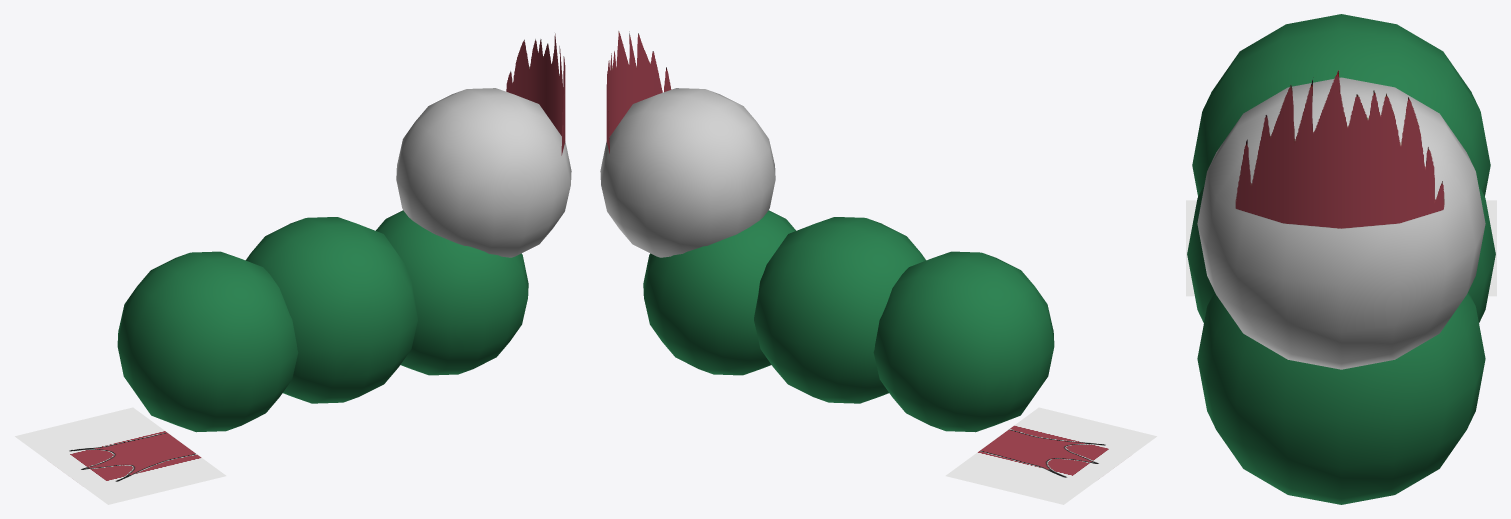
Rendered from Enemy.FBX.
The picture shows the model from 3 angles, left to right: view 1: azimuth 30°, elevation 25°; view 2: azimuth 150°, elevation 25°; view 3: azimuth 270°, elevation 25°; orthographic projection. The views are drawn at different scales.
Parts seen in each view (by area): view 1: Box003, Box004, Box001, Box002, Plane002, Plane001; view 2: Box003, Box004, Box001, Box002, Plane002, Plane001; view 3: Box004, Box002, Plane001, Box003, Box001, Plane002.
Boxes of the visible parts, box(x1,y1,x2,y2) form: Box003: box(117, 251, 298, 432); Box004: box(396, 88, 571, 257); Box001: box(245, 217, 417, 403); Box002: box(376, 210, 528, 375); Plane002: box(15, 407, 226, 504); Plane001: box(506, 33, 565, 155); Box003: box(873, 251, 1054, 432); Box004: box(600, 88, 775, 257); Box001: box(754, 217, 926, 403); Box002: box(643, 210, 795, 375); Plane002: box(945, 407, 1156, 504); Plane001: box(606, 31, 671, 154); Box004: box(1197, 77, 1485, 369); Box002: box(1197, 291, 1485, 504); Plane001: box(1235, 70, 1444, 228); Box003: box(1192, 14, 1490, 196); Box001: box(1187, 183, 1495, 322); Plane002: box(1186, 200, 1496, 296).
Size of the model in its own units: 32.01 by 19.59 by 10.44.
